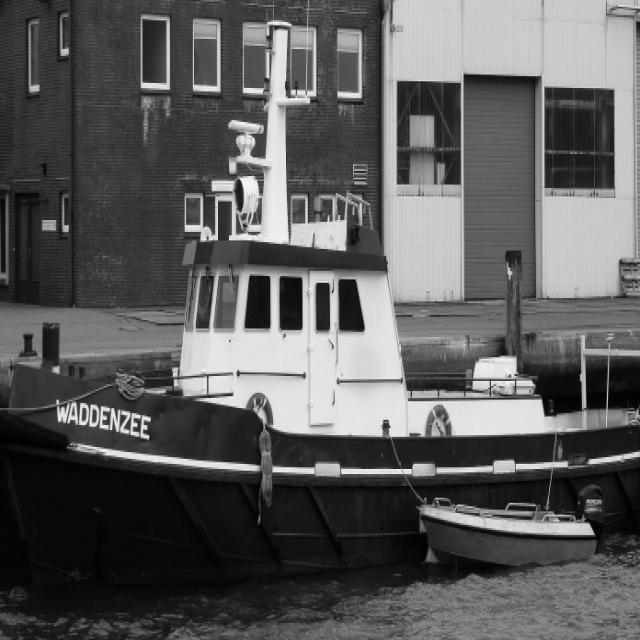tugboat: (1, 13, 640, 617)
